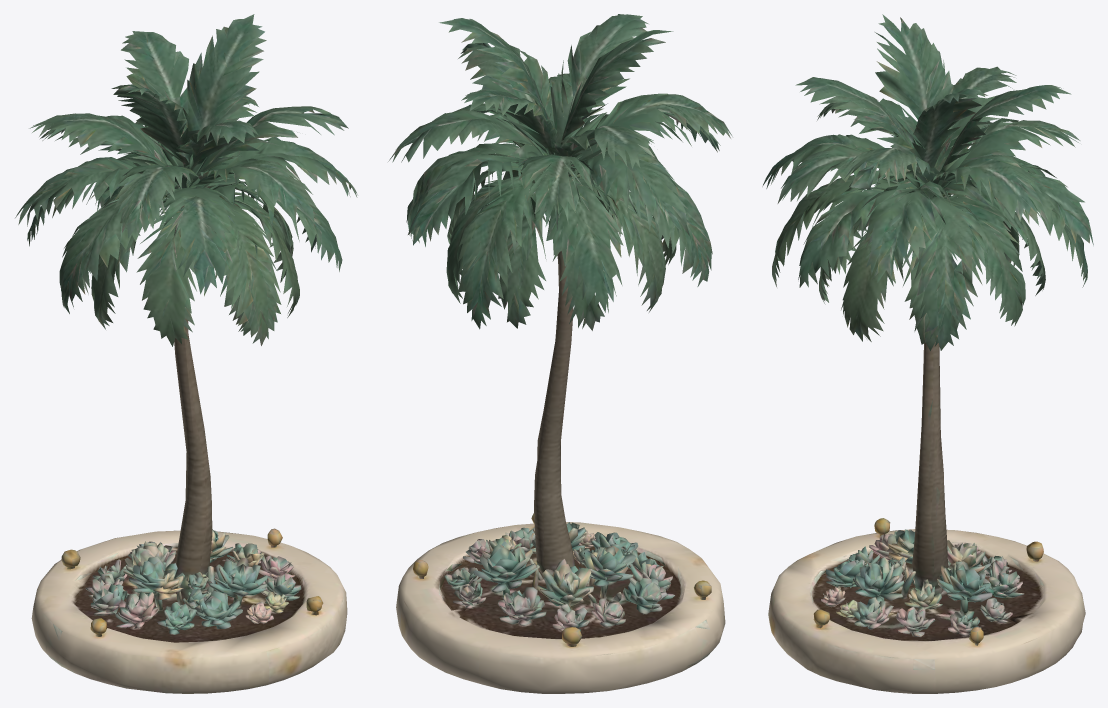
The model's file is plant_palm.glb.
The picture shows the model from 3 angles, left to right: view 1: azimuth 30°, elevation 25°; view 2: azimuth 150°, elevation 25°; view 3: azimuth 270°, elevation 25°; orthographic projection. The views are drawn at different scales.
Parts seen in each view (by area): view 1: prop; view 2: prop; view 3: prop.
Part boxes in pixels (x1,y1,x2,y2): prop: [15, 14, 357, 693]; prop: [388, 14, 732, 693]; prop: [762, 14, 1093, 693].
Bounding box in the file's own units: 0.9014 × 1.7 × 0.8908.
1 material, 1 textured.
